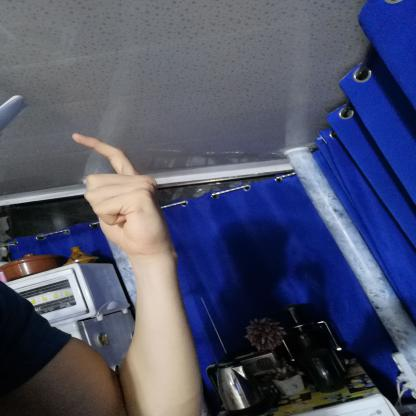RAA: (59, 124, 181, 263)
